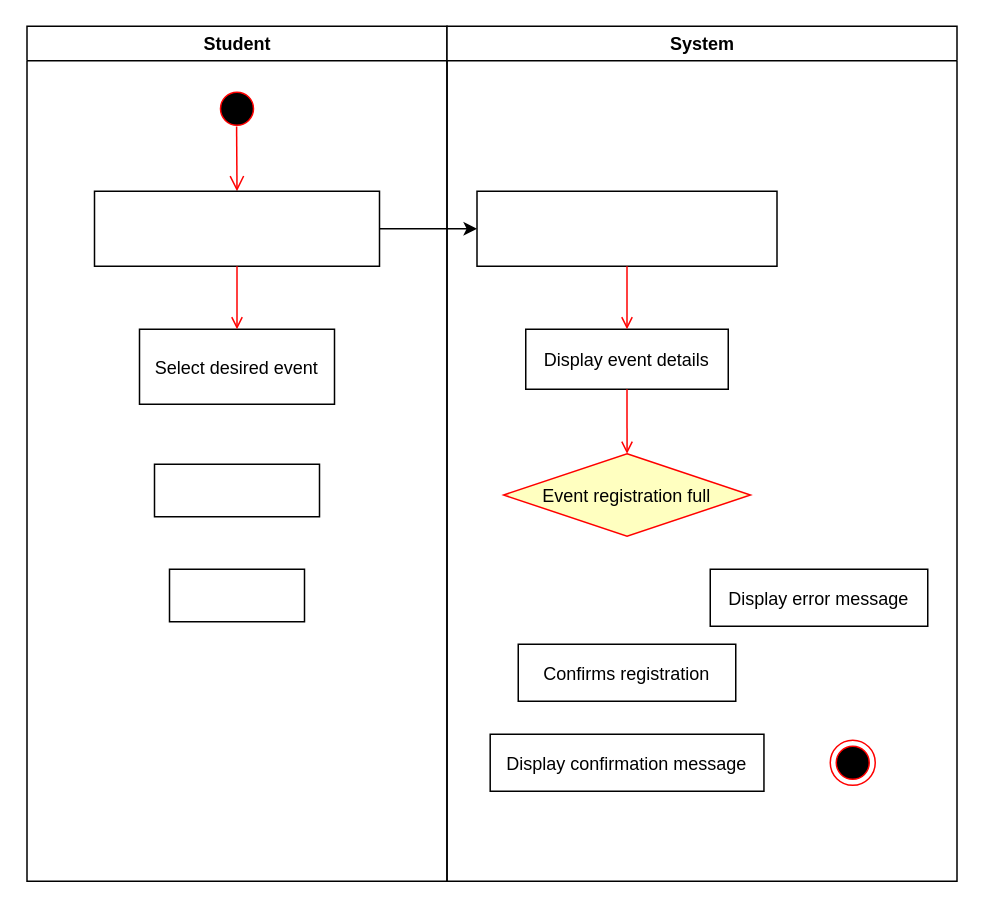
Image size: 983x908. Some labels were removed from this diagram. Here are the shapes that lost their labels. From the top down, the centre of each, then its label:
pixel 236 228: Go to "Event Registration" page
pixel 626 228: Display a list of available events
pixel 236 490: Fills in information
pixel 236 595: Submit form
